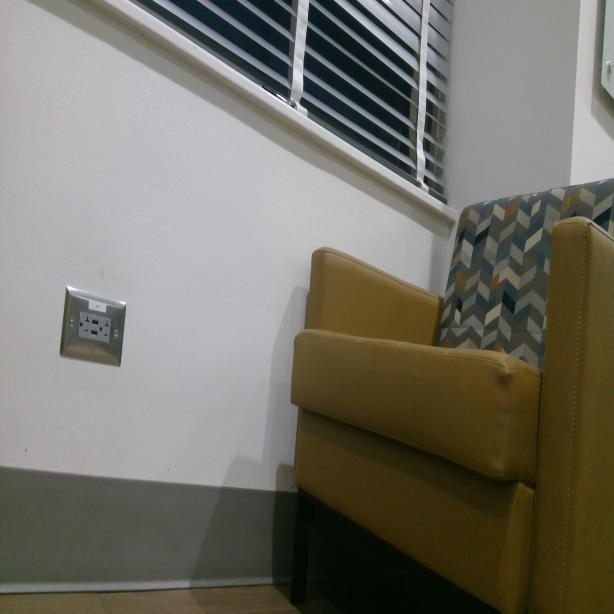typeb: (77, 310, 91, 336), (98, 318, 112, 341)
